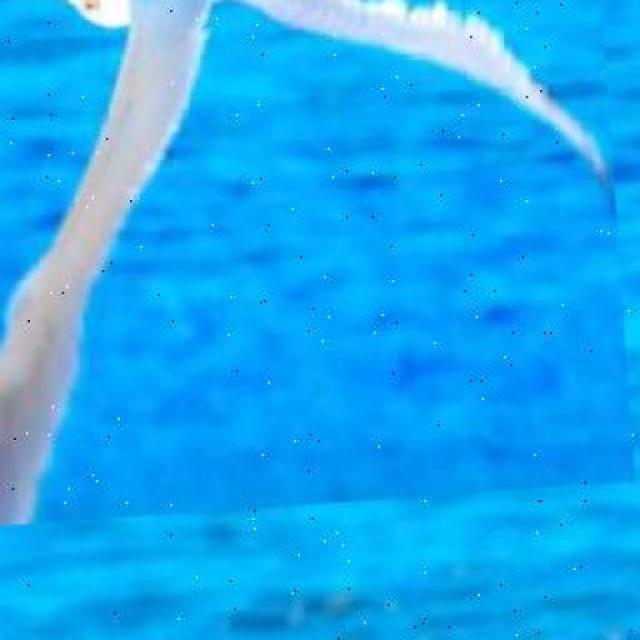airplane: (0, 0, 634, 528)
